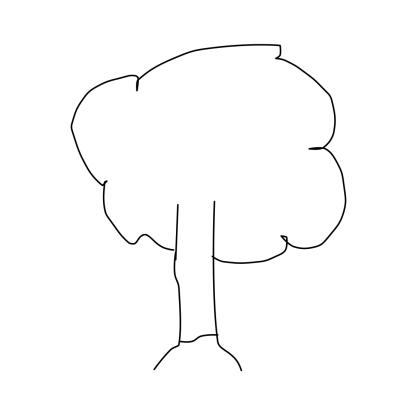crown_cloud: (71, 45, 346, 264)
trunk_straight: (174, 222, 219, 320)
